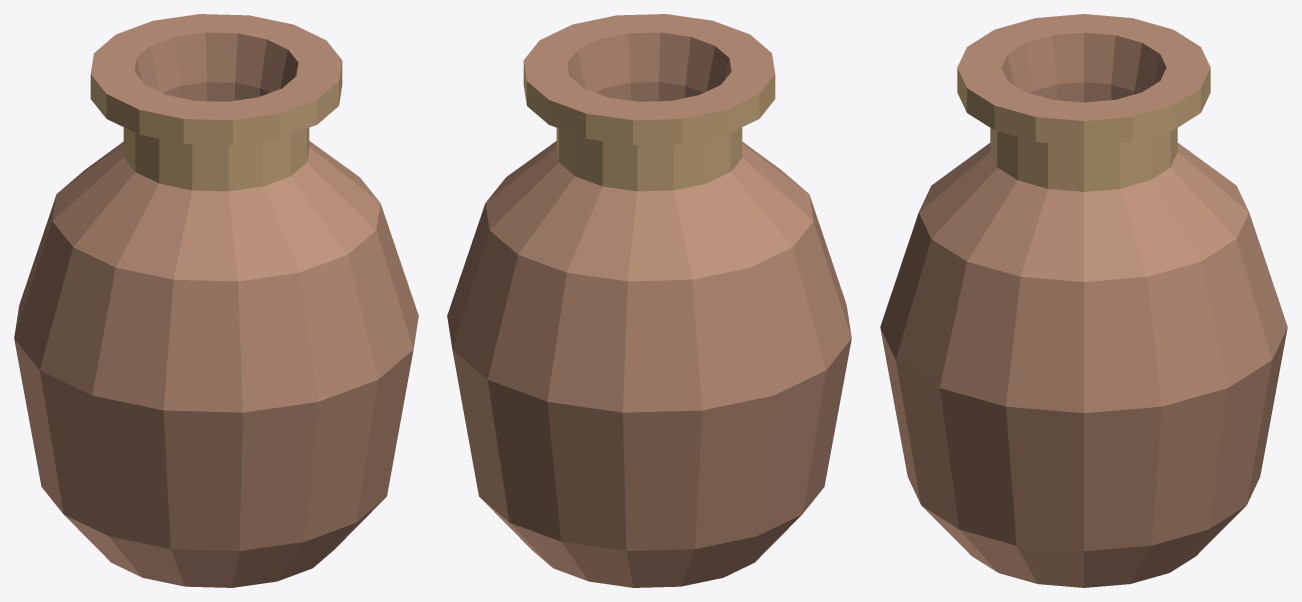
Rendered from WayfarerPot.fbx.
3 renders of one model, left to right at view 1: azimuth 30°, elevation 25°; view 2: azimuth 150°, elevation 25°; view 3: azimuth 270°, elevation 25°, orthographic.
Visible parts, largest first — view 1: WayfarerPot; view 2: WayfarerPot; view 3: WayfarerPot.
Part boxes in pixels (left/top/right/bottom): WayfarerPot: left=14, top=14, right=418, bottom=587; WayfarerPot: left=447, top=14, right=851, bottom=587; WayfarerPot: left=880, top=14, right=1287, bottom=587.
Bounding box in the file's own units: 74 × 94 × 74.
